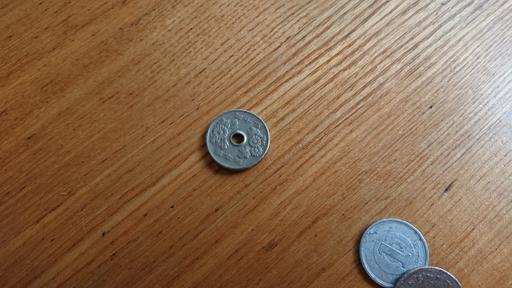100yen: (394, 268, 463, 288)
1yen: (359, 218, 428, 288)
50yen: (205, 110, 270, 170)
